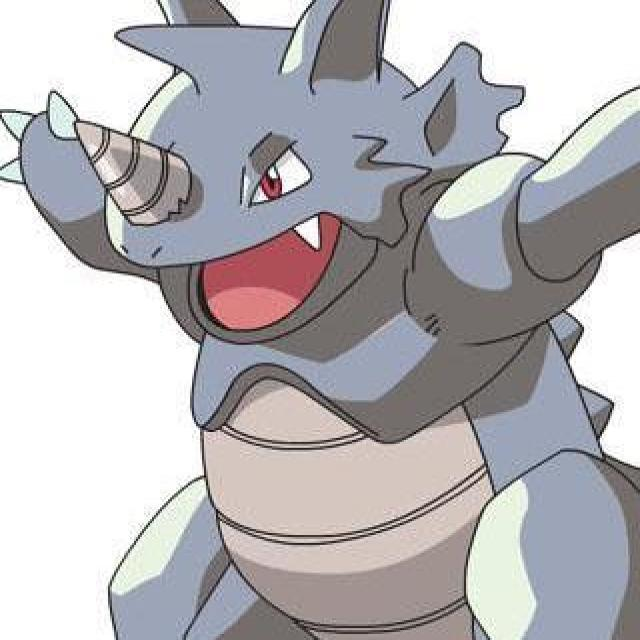Rhydon: (65, 10, 600, 640)
